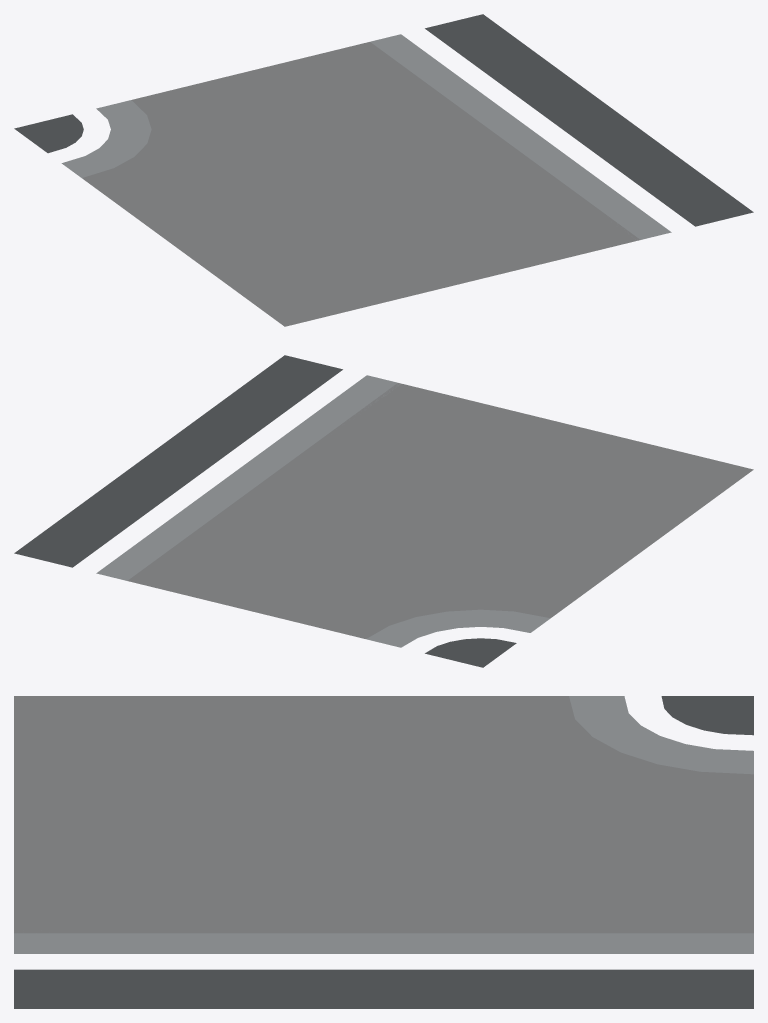
Rendered from Ceiling_type_B_034_003.glb.
3 renders of one model, top to bottom at view 1: azimuth 30°, elevation 25°; view 2: azimuth 150°, elevation 25°; view 3: azimuth 270°, elevation 25°, orthographic. The views are drawn at different scales.
Parts seen in each view (by area): view 1: Ceiling_type_B_034.003; view 2: Ceiling_type_B_034.003; view 3: Ceiling_type_B_034.003.
Boxes of the visible parts, x1,y1,x2,y2 form: Ceiling_type_B_034.003: (14,14,753,326); Ceiling_type_B_034.003: (14,355,753,667); Ceiling_type_B_034.003: (14,696,753,1008).
Size of the model in its own units: 4 by 0.012 by 4.
Materials: 2 (2 with a texture image).
